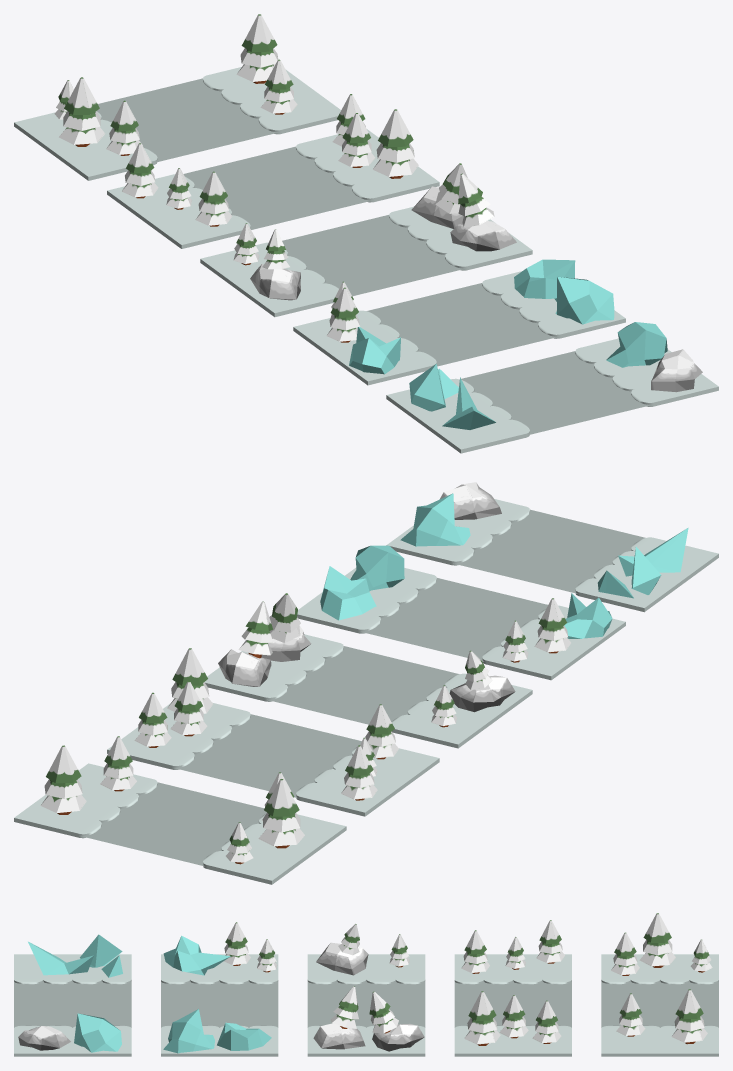
File: SnowPath2.glb
3 renders of one model, top to bottom at view 1: azimuth 30°, elevation 25°; view 2: azimuth 150°, elevation 25°; view 3: azimuth 270°, elevation 25°, orthographic. The views are drawn at different scales.
Parts seen in each view (by area): view 1: Mod2, Mod3, Mod1, Mod4, Mod5; view 2: Mod1, Mod2, Mod3, Mod4, Mod5; view 3: Mod1, Mod2, Mod4, Mod3, Mod5.
Boxes of the visible parts, x1=… form: Mod2: x1=107, y1=94, x2=439, y2=248; Mod3: x1=200, y1=163, x2=532, y2=317; Mod1: x1=14, y1=14, x2=341, y2=180; Mod4: x1=293, y1=259, x2=625, y2=385; Mod5: x1=386, y1=322, x2=718, y2=453; Mod1: x1=14, y1=736, x2=346, y2=884; Mod2: x1=107, y1=648, x2=439, y2=816; Mod3: x1=204, y1=593, x2=532, y2=748; Mod4: x1=297, y1=545, x2=625, y2=680; Mod5: x1=386, y1=482, x2=718, y2=612; Mod1: x1=601, y1=913, x2=718, y2=1056; Mod2: x1=454, y1=920, x2=571, y2=1056; Mod4: x1=161, y1=922, x2=278, y2=1056; Mod3: x1=307, y1=924, x2=425, y2=1056; Mod5: x1=14, y1=934, x2=131, y2=1056.
Size of the model in its own units: 8 by 2.07 by 24.
6 materials, 2 textured.
